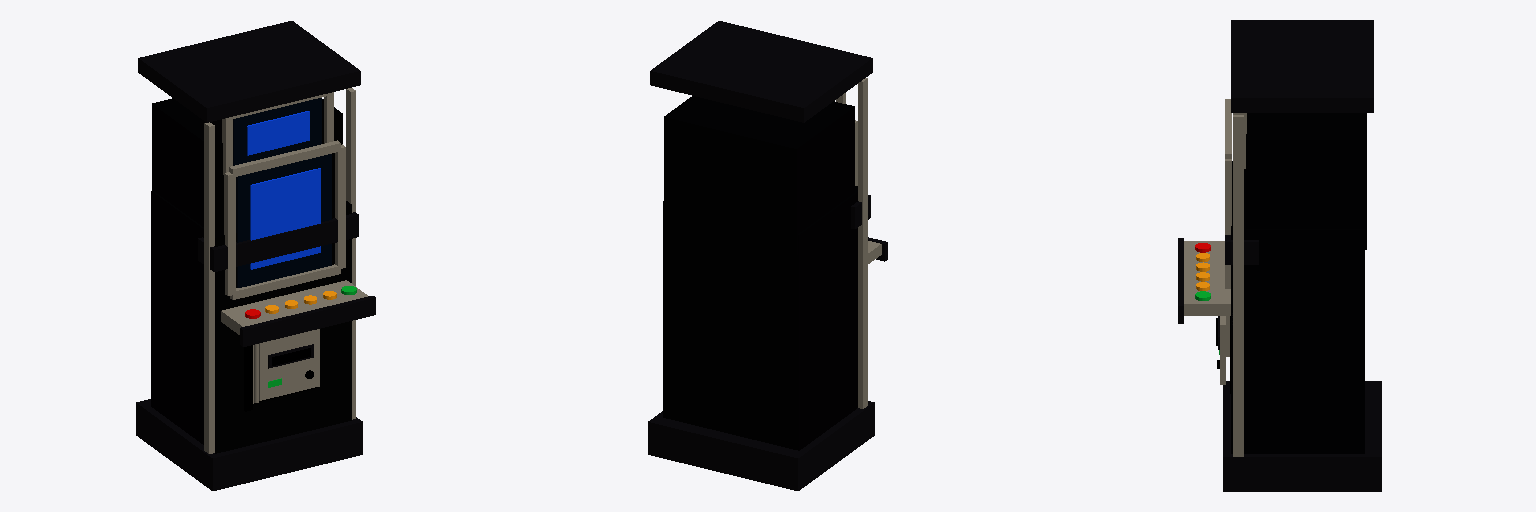
The robot description file, URDF, robot "dual_screen_slot_cabinet":
<robot name="dual_screen_slot_cabinet">
  <material name="satin_black">
    <color rgba="0.015 0.014 0.018 1" />
    </material>
  <material name="charcoal_side_panels">
    <color rgba="0.055 0.05 0.06 1" />
    </material>
  <material name="blue_black_display_glass">
    <color rgba="0.015 0.05 0.095 1" />
    </material>
  <material name="lit_blue_screen_art">
    <color rgba="0.05 0.3 0.95 1" />
    </material>
  <material name="brushed_metal">
    <color rgba="0.55 0.52 0.46 1" />
    </material>
  <material name="black_shadow_gap">
    <color rgba="0 0 0 1" />
    </material>
  <material name="red_translucent_button">
    <color rgba="0.9 0.03 0.02 1" />
    </material>
  <material name="amber_translucent_button">
    <color rgba="1 0.62 0.07 1" />
    </material>
  <material name="green_translucent_button">
    <color rgba="0.04 0.72 0.2 1" />
    </material>
  <link name="cabinet">
    <visual name="base_plinth">
      <origin xyz="0 0.02 0.09" rpy="0 0 0" />
      <geometry>
        <box size="0.86 0.76 0.18" />
        </geometry>
      <material name="charcoal_side_panels">
        <color rgba="0.055 0.05 0.06 1" />
        </material>
      </visual>
    <visual name="lower_body">
      <origin xyz="0 0 0.72" rpy="0 0 0" />
      <geometry>
        <box size="0.78 0.64 1.28" />
        </geometry>
      <material name="satin_black">
        <color rgba="0.015 0.014 0.018 1" />
        </material>
      </visual>
    <visual name="top_body">
      <origin xyz="0 0.04 1.54" rpy="0 0 0" />
      <geometry>
        <box size="0.76 0.58 0.58" />
        </geometry>
      <material name="satin_black">
        <color rgba="0.015 0.014 0.018 1" />
        </material>
      </visual>
    <visual name="waist_band">
      <origin xyz="0 -0.27 1.25" rpy="0 0 0" />
      <geometry>
        <box size="0.83 0.16 0.12" />
        </geometry>
      <material name="charcoal_side_panels">
        <color rgba="0.055 0.05 0.06 1" />
        </material>
      </visual>
    <visual name="crown_cap">
      <origin xyz="0 0.02 2.04" rpy="0 0 0" />
      <geometry>
        <box size="0.88 0.68 0.08" />
        </geometry>
      <material name="charcoal_side_panels">
        <color rgba="0.055 0.05 0.06 1" />
        </material>
      </visual>
    <visual name="front_upright_0">
      <origin xyz="-0.405 -0.285 1.04" rpy="0 0 0" />
      <geometry>
        <box size="0.03 0.05 1.86" />
        </geometry>
      <material name="brushed_metal">
        <color rgba="0.55 0.52 0.46 1" />
        </material>
      </visual>
    <visual name="front_upright_1">
      <origin xyz="0.405 -0.285 1.04" rpy="0 0 0" />
      <geometry>
        <box size="0.03 0.05 1.86" />
        </geometry>
      <material name="brushed_metal">
        <color rgba="0.55 0.52 0.46 1" />
        </material>
      </visual>
    <visual name="lower_display_glass">
      <origin xyz="0 -0.325 1.37" rpy="0 0 0" />
      <geometry>
        <box size="0.54 0.014 0.62" />
        </geometry>
      <material name="blue_black_display_glass">
        <color rgba="0.015 0.05 0.095 1" />
        </material>
      </visual>
    <visual name="lower_display_art">
      <origin xyz="0 -0.334 1.38" rpy="0 0 0" />
      <geometry>
        <box size="0.4 0.016 0.46" />
        </geometry>
      <material name="lit_blue_screen_art">
        <color rgba="0.05 0.3 0.95 1" />
        </material>
      </visual>
    <visual name="lower_bezel_top">
      <origin xyz="0 -0.333 1.705" rpy="0 0 0" />
      <geometry>
        <box size="0.62 0.035 0.045" />
        </geometry>
      <material name="brushed_metal">
        <color rgba="0.55 0.52 0.46 1" />
        </material>
      </visual>
    <visual name="lower_bezel_bottom">
      <origin xyz="0 -0.333 1.035" rpy="0 0 0" />
      <geometry>
        <box size="0.62 0.035 0.045" />
        </geometry>
      <material name="brushed_metal">
        <color rgba="0.55 0.52 0.46 1" />
        </material>
      </visual>
    <visual name="lower_bezel_side_0">
      <origin xyz="-0.315 -0.333 1.37" rpy="0 0 0" />
      <geometry>
        <box size="0.045 0.035 0.66" />
        </geometry>
      <material name="brushed_metal">
        <color rgba="0.55 0.52 0.46 1" />
        </material>
      </visual>
    <visual name="lower_bezel_side_1">
      <origin xyz="0.315 -0.333 1.37" rpy="0 0 0" />
      <geometry>
        <box size="0.045 0.035 0.66" />
        </geometry>
      <material name="brushed_metal">
        <color rgba="0.55 0.52 0.46 1" />
        </material>
      </visual>
    <visual name="top_display_glass">
      <origin xyz="0 -0.255 1.82" rpy="0 0 0" />
      <geometry>
        <box size="0.5 0.014 0.28" />
        </geometry>
      <material name="blue_black_display_glass">
        <color rgba="0.015 0.05 0.095 1" />
        </material>
      </visual>
    <visual name="top_display_art">
      <origin xyz="0 -0.264 1.82" rpy="0 0 0" />
      <geometry>
        <box size="0.36 0.016 0.16" />
        </geometry>
      <material name="lit_blue_screen_art">
        <color rgba="0.05 0.3 0.95 1" />
        </material>
      </visual>
    <visual name="top_bezel_top">
      <origin xyz="0 -0.264 1.985" rpy="0 0 0" />
      <geometry>
        <box size="0.58 0.034 0.04" />
        </geometry>
      <material name="brushed_metal">
        <color rgba="0.55 0.52 0.46 1" />
        </material>
      </visual>
    <visual name="top_bezel_bottom">
      <origin xyz="0 -0.264 1.655" rpy="0 0 0" />
      <geometry>
        <box size="0.58 0.034 0.04" />
        </geometry>
      <material name="brushed_metal">
        <color rgba="0.55 0.52 0.46 1" />
        </material>
      </visual>
    <visual name="top_bezel_side_0">
      <origin xyz="-0.29 -0.264 1.82" rpy="0 0 0" />
      <geometry>
        <box size="0.04 0.034 0.32" />
        </geometry>
      <material name="brushed_metal">
        <color rgba="0.55 0.52 0.46 1" />
        </material>
      </visual>
    <visual name="top_bezel_side_1">
      <origin xyz="0.29 -0.264 1.82" rpy="0 0 0" />
      <geometry>
        <box size="0.04 0.034 0.32" />
        </geometry>
      <material name="brushed_metal">
        <color rgba="0.55 0.52 0.46 1" />
        </material>
      </visual>
    <visual name="button_deck">
      <origin xyz="0 -0.425 0.925" rpy="0 0 0" />
      <geometry>
        <box size="0.72 0.26 0.06" />
        </geometry>
      <material name="brushed_metal">
        <color rgba="0.55 0.52 0.46 1" />
        </material>
      </visual>
    <visual name="deck_front_lip">
      <origin xyz="0 -0.56 0.91" rpy="0 0 0" />
      <geometry>
        <box size="0.76 0.03 0.095" />
        </geometry>
      <material name="charcoal_side_panels">
        <color rgba="0.055 0.05 0.06 1" />
        </material>
      </visual>
    <visual name="deck_rear_lip">
      <origin xyz="0 -0.3 0.91" rpy="0 0 0" />
      <geometry>
        <box size="0.78 0.035 0.095" />
        </geometry>
      <material name="charcoal_side_panels">
        <color rgba="0.055 0.05 0.06 1" />
        </material>
      </visual>
    <visual name="bill_door_recess">
      <origin xyz="0 -0.326 0.6" rpy="0 0 0" />
      <geometry>
        <box size="0.4 0.006 0.38" />
        </geometry>
      <material name="black_shadow_gap">
        <color rgba="0 0 0 1" />
        </material>
      </visual>
    <visual name="bill_hinge_leaf">
      <origin xyz="-0.198 -0.335 0.6" rpy="0 0 0" />
      <geometry>
        <box size="0.012 0.04 0.36" />
        </geometry>
      <material name="brushed_metal">
        <color rgba="0.55 0.52 0.46 1" />
        </material>
      </visual>
    <visual name="bill_door_shadow_gap">
      <origin xyz="-0.22 -0.352 0.6" rpy="0 0 0" />
      <geometry>
        <box size="0.045 0.01 0.42" />
        </geometry>
      <material name="black_shadow_gap">
        <color rgba="0 0 0 1" />
        </material>
      </visual>
    <collision name="base_plinth">
      <origin xyz="0 0.02 0.09" rpy="0 0 0" />
      <geometry>
        <box size="0.86 0.76 0.18" />
        </geometry>
      </collision>
    <collision name="lower_body">
      <origin xyz="0 0 0.72" rpy="0 0 0" />
      <geometry>
        <box size="0.78 0.64 1.28" />
        </geometry>
      </collision>
    <collision name="top_body">
      <origin xyz="0 0.04 1.54" rpy="0 0 0" />
      <geometry>
        <box size="0.76 0.58 0.58" />
        </geometry>
      </collision>
    <collision name="waist_band">
      <origin xyz="0 -0.27 1.25" rpy="0 0 0" />
      <geometry>
        <box size="0.83 0.16 0.12" />
        </geometry>
      </collision>
    <collision name="crown_cap">
      <origin xyz="0 0.02 2.04" rpy="0 0 0" />
      <geometry>
        <box size="0.88 0.68 0.08" />
        </geometry>
      </collision>
    <collision name="front_upright_0">
      <origin xyz="-0.405 -0.285 1.04" rpy="0 0 0" />
      <geometry>
        <box size="0.03 0.05 1.86" />
        </geometry>
      </collision>
    <collision name="front_upright_1">
      <origin xyz="0.405 -0.285 1.04" rpy="0 0 0" />
      <geometry>
        <box size="0.03 0.05 1.86" />
        </geometry>
      </collision>
    <collision name="lower_display_glass">
      <origin xyz="0 -0.325 1.37" rpy="0 0 0" />
      <geometry>
        <box size="0.54 0.014 0.62" />
        </geometry>
      </collision>
    <collision name="lower_display_art">
      <origin xyz="0 -0.334 1.38" rpy="0 0 0" />
      <geometry>
        <box size="0.4 0.016 0.46" />
        </geometry>
      </collision>
    <collision name="lower_bezel_top">
      <origin xyz="0 -0.333 1.705" rpy="0 0 0" />
      <geometry>
        <box size="0.62 0.035 0.045" />
        </geometry>
      </collision>
    <collision name="lower_bezel_bottom">
      <origin xyz="0 -0.333 1.035" rpy="0 0 0" />
      <geometry>
        <box size="0.62 0.035 0.045" />
        </geometry>
      </collision>
    <collision name="lower_bezel_side_0">
      <origin xyz="-0.315 -0.333 1.37" rpy="0 0 0" />
      <geometry>
        <box size="0.045 0.035 0.66" />
        </geometry>
      </collision>
    <collision name="lower_bezel_side_1">
      <origin xyz="0.315 -0.333 1.37" rpy="0 0 0" />
      <geometry>
        <box size="0.045 0.035 0.66" />
        </geometry>
      </collision>
    <collision name="top_display_glass">
      <origin xyz="0 -0.255 1.82" rpy="0 0 0" />
      <geometry>
        <box size="0.5 0.014 0.28" />
        </geometry>
      </collision>
    <collision name="top_display_art">
      <origin xyz="0 -0.264 1.82" rpy="0 0 0" />
      <geometry>
        <box size="0.36 0.016 0.16" />
        </geometry>
      </collision>
    <collision name="top_bezel_top">
      <origin xyz="0 -0.264 1.985" rpy="0 0 0" />
      <geometry>
        <box size="0.58 0.034 0.04" />
        </geometry>
      </collision>
    <collision name="top_bezel_bottom">
      <origin xyz="0 -0.264 1.655" rpy="0 0 0" />
      <geometry>
        <box size="0.58 0.034 0.04" />
        </geometry>
      </collision>
    <collision name="top_bezel_side_0">
      <origin xyz="-0.29 -0.264 1.82" rpy="0 0 0" />
      <geometry>
        <box size="0.04 0.034 0.32" />
        </geometry>
      </collision>
    <collision name="top_bezel_side_1">
      <origin xyz="0.29 -0.264 1.82" rpy="0 0 0" />
      <geometry>
        <box size="0.04 0.034 0.32" />
        </geometry>
      </collision>
    <collision name="button_deck">
      <origin xyz="0 -0.425 0.925" rpy="0 0 0" />
      <geometry>
        <box size="0.72 0.26 0.06" />
        </geometry>
      </collision>
    <collision name="deck_front_lip">
      <origin xyz="0 -0.56 0.91" rpy="0 0 0" />
      <geometry>
        <box size="0.76 0.03 0.095" />
        </geometry>
      </collision>
    <collision name="deck_rear_lip">
      <origin xyz="0 -0.3 0.91" rpy="0 0 0" />
      <geometry>
        <box size="0.78 0.035 0.095" />
        </geometry>
      </collision>
    <collision name="bill_door_recess">
      <origin xyz="0 -0.326 0.6" rpy="0 0 0" />
      <geometry>
        <box size="0.4 0.006 0.38" />
        </geometry>
      </collision>
    <collision name="bill_hinge_leaf">
      <origin xyz="-0.198 -0.335 0.6" rpy="0 0 0" />
      <geometry>
        <box size="0.012 0.04 0.36" />
        </geometry>
      </collision>
    <collision name="bill_door_shadow_gap">
      <origin xyz="-0.22 -0.352 0.6" rpy="0 0 0" />
      <geometry>
        <box size="0.045 0.01 0.42" />
        </geometry>
      </collision>
    </link>
  <link name="bill_door">
    <visual name="panel">
      <origin xyz="0.182 -0.016 0" rpy="0 0 0" />
      <geometry>
        <box size="0.34 0.03 0.32" />
        </geometry>
      <material name="brushed_metal">
        <color rgba="0.55 0.52 0.46 1" />
        </material>
      </visual>
    <visual name="hinge_barrel">
      <origin xyz="0 -0.016 0" rpy="0 0 0" />
      <geometry>
        <cylinder radius="0.014" length="0.34" />
        </geometry>
      <material name="brushed_metal">
        <color rgba="0.55 0.52 0.46 1" />
        </material>
      </visual>
    <visual name="bill_slot">
      <origin xyz="0.185 -0.043 0.045" rpy="0 0 0" />
      <geometry>
        <box size="0.22 0.01 0.045" />
        </geometry>
      <material name="black_shadow_gap">
        <color rgba="0 0 0 1" />
        </material>
      </visual>
    <visual name="slot_bezel">
      <origin xyz="0.185 -0.034 0.045" rpy="0 0 0" />
      <geometry>
        <box size="0.26 0.012 0.07" />
        </geometry>
      <material name="charcoal_side_panels">
        <color rgba="0.055 0.05 0.06 1" />
        </material>
      </visual>
    <visual name="round_lock">
      <origin xyz="0.292 -0.037 -0.08" rpy="1.5708 0 0" />
      <geometry>
        <cylinder radius="0.022" length="0.012" />
        </geometry>
      <material name="black_shadow_gap">
        <color rgba="0 0 0 1" />
        </material>
      </visual>
    <visual name="status_lens">
      <origin xyz="0.098 -0.027 -0.083" rpy="0 0 0" />
      <geometry>
        <box size="0.08 0.01 0.035" />
        </geometry>
      <material name="green_translucent_button">
        <color rgba="0.04 0.72 0.2 1" />
        </material>
      </visual>
    <collision name="panel">
      <origin xyz="0.182 -0.016 0" rpy="0 0 0" />
      <geometry>
        <box size="0.34 0.03 0.32" />
        </geometry>
      </collision>
    <collision name="hinge_barrel">
      <origin xyz="0 -0.016 0" rpy="0 0 0" />
      <geometry>
        <cylinder radius="0.014" length="0.34" />
        </geometry>
      </collision>
    <collision name="bill_slot">
      <origin xyz="0.185 -0.043 0.045" rpy="0 0 0" />
      <geometry>
        <box size="0.22 0.01 0.045" />
        </geometry>
      </collision>
    <collision name="slot_bezel">
      <origin xyz="0.185 -0.034 0.045" rpy="0 0 0" />
      <geometry>
        <box size="0.26 0.012 0.07" />
        </geometry>
      </collision>
    <collision name="round_lock">
      <origin xyz="0.292 -0.037 -0.08" rpy="1.5708 0 0" />
      <geometry>
        <cylinder radius="0.022" length="0.012" />
        </geometry>
      </collision>
    <collision name="status_lens">
      <origin xyz="0.098 -0.027 -0.083" rpy="0 0 0" />
      <geometry>
        <box size="0.08 0.01 0.035" />
        </geometry>
      </collision>
    </link>
  <link name="button_0">
    <visual name="cap">
      <origin xyz="0 0 0.012" rpy="0 0 0" />
      <geometry>
        <cylinder radius="0.038" length="0.018" />
        </geometry>
      <material name="red_translucent_button">
        <color rgba="0.9 0.03 0.02 1" />
        </material>
      </visual>
    <visual name="stem_shadow">
      <origin xyz="0 0 0.005" rpy="0 0 0" />
      <geometry>
        <cylinder radius="0.02356" length="0.01" />
        </geometry>
      <material name="charcoal_side_panels">
        <color rgba="0.055 0.05 0.06 1" />
        </material>
      </visual>
    <collision name="cap">
      <origin xyz="0 0 0.012" rpy="0 0 0" />
      <geometry>
        <cylinder radius="0.038" length="0.018" />
        </geometry>
      </collision>
    <collision name="stem_shadow">
      <origin xyz="0 0 0.005" rpy="0 0 0" />
      <geometry>
        <cylinder radius="0.02356" length="0.01" />
        </geometry>
      </collision>
    </link>
  <link name="button_1">
    <visual name="cap">
      <origin xyz="0 0 0.012" rpy="0 0 0" />
      <geometry>
        <cylinder radius="0.034" length="0.018" />
        </geometry>
      <material name="amber_translucent_button">
        <color rgba="1 0.62 0.07 1" />
        </material>
      </visual>
    <visual name="stem_shadow">
      <origin xyz="0 0 0.005" rpy="0 0 0" />
      <geometry>
        <cylinder radius="0.02108" length="0.01" />
        </geometry>
      <material name="charcoal_side_panels">
        <color rgba="0.055 0.05 0.06 1" />
        </material>
      </visual>
    <collision name="cap">
      <origin xyz="0 0 0.012" rpy="0 0 0" />
      <geometry>
        <cylinder radius="0.034" length="0.018" />
        </geometry>
      </collision>
    <collision name="stem_shadow">
      <origin xyz="0 0 0.005" rpy="0 0 0" />
      <geometry>
        <cylinder radius="0.02108" length="0.01" />
        </geometry>
      </collision>
    </link>
  <link name="button_2">
    <visual name="cap">
      <origin xyz="0 0 0.012" rpy="0 0 0" />
      <geometry>
        <cylinder radius="0.034" length="0.018" />
        </geometry>
      <material name="amber_translucent_button">
        <color rgba="1 0.62 0.07 1" />
        </material>
      </visual>
    <visual name="stem_shadow">
      <origin xyz="0 0 0.005" rpy="0 0 0" />
      <geometry>
        <cylinder radius="0.02108" length="0.01" />
        </geometry>
      <material name="charcoal_side_panels">
        <color rgba="0.055 0.05 0.06 1" />
        </material>
      </visual>
    <collision name="cap">
      <origin xyz="0 0 0.012" rpy="0 0 0" />
      <geometry>
        <cylinder radius="0.034" length="0.018" />
        </geometry>
      </collision>
    <collision name="stem_shadow">
      <origin xyz="0 0 0.005" rpy="0 0 0" />
      <geometry>
        <cylinder radius="0.02108" length="0.01" />
        </geometry>
      </collision>
    </link>
  <link name="button_3">
    <visual name="cap">
      <origin xyz="0 0 0.012" rpy="0 0 0" />
      <geometry>
        <cylinder radius="0.034" length="0.018" />
        </geometry>
      <material name="amber_translucent_button">
        <color rgba="1 0.62 0.07 1" />
        </material>
      </visual>
    <visual name="stem_shadow">
      <origin xyz="0 0 0.005" rpy="0 0 0" />
      <geometry>
        <cylinder radius="0.02108" length="0.01" />
        </geometry>
      <material name="charcoal_side_panels">
        <color rgba="0.055 0.05 0.06 1" />
        </material>
      </visual>
    <collision name="cap">
      <origin xyz="0 0 0.012" rpy="0 0 0" />
      <geometry>
        <cylinder radius="0.034" length="0.018" />
        </geometry>
      </collision>
    <collision name="stem_shadow">
      <origin xyz="0 0 0.005" rpy="0 0 0" />
      <geometry>
        <cylinder radius="0.02108" length="0.01" />
        </geometry>
      </collision>
    </link>
  <link name="button_4">
    <visual name="cap">
      <origin xyz="0 0 0.012" rpy="0 0 0" />
      <geometry>
        <cylinder radius="0.034" length="0.018" />
        </geometry>
      <material name="amber_translucent_button">
        <color rgba="1 0.62 0.07 1" />
        </material>
      </visual>
    <visual name="stem_shadow">
      <origin xyz="0 0 0.005" rpy="0 0 0" />
      <geometry>
        <cylinder radius="0.02108" length="0.01" />
        </geometry>
      <material name="charcoal_side_panels">
        <color rgba="0.055 0.05 0.06 1" />
        </material>
      </visual>
    <collision name="cap">
      <origin xyz="0 0 0.012" rpy="0 0 0" />
      <geometry>
        <cylinder radius="0.034" length="0.018" />
        </geometry>
      </collision>
    <collision name="stem_shadow">
      <origin xyz="0 0 0.005" rpy="0 0 0" />
      <geometry>
        <cylinder radius="0.02108" length="0.01" />
        </geometry>
      </collision>
    </link>
  <link name="button_5">
    <visual name="cap">
      <origin xyz="0 0 0.012" rpy="0 0 0" />
      <geometry>
        <cylinder radius="0.038" length="0.018" />
        </geometry>
      <material name="green_translucent_button">
        <color rgba="0.04 0.72 0.2 1" />
        </material>
      </visual>
    <visual name="stem_shadow">
      <origin xyz="0 0 0.005" rpy="0 0 0" />
      <geometry>
        <cylinder radius="0.02356" length="0.01" />
        </geometry>
      <material name="charcoal_side_panels">
        <color rgba="0.055 0.05 0.06 1" />
        </material>
      </visual>
    <collision name="cap">
      <origin xyz="0 0 0.012" rpy="0 0 0" />
      <geometry>
        <cylinder radius="0.038" length="0.018" />
        </geometry>
      </collision>
    <collision name="stem_shadow">
      <origin xyz="0 0 0.005" rpy="0 0 0" />
      <geometry>
        <cylinder radius="0.02356" length="0.01" />
        </geometry>
      </collision>
    </link>
  <joint name="cabinet_to_bill_door" type="revolute">
    <origin xyz="-0.18 -0.345 0.6" rpy="0 0 0" />
    <parent link="cabinet" />
    <child link="bill_door" />
    <axis xyz="0 0 -1" />
    <limit effort="12" velocity="1.5" lower="0" upper="1.3" />
    </joint>
  <joint name="cabinet_to_button_0" type="prismatic">
    <origin xyz="-0.255 -0.455 0.955" rpy="0 0 0" />
    <parent link="cabinet" />
    <child link="button_0" />
    <axis xyz="0 0 -1" />
    <limit effort="8" velocity="0.08" lower="0" upper="0.008" />
    </joint>
  <joint name="cabinet_to_button_1" type="prismatic">
    <origin xyz="-0.145 -0.455 0.955" rpy="0 0 0" />
    <parent link="cabinet" />
    <child link="button_1" />
    <axis xyz="0 0 -1" />
    <limit effort="8" velocity="0.08" lower="0" upper="0.008" />
    </joint>
  <joint name="cabinet_to_button_2" type="prismatic">
    <origin xyz="-0.035 -0.455 0.955" rpy="0 0 0" />
    <parent link="cabinet" />
    <child link="button_2" />
    <axis xyz="0 0 -1" />
    <limit effort="8" velocity="0.08" lower="0" upper="0.008" />
    </joint>
  <joint name="cabinet_to_button_3" type="prismatic">
    <origin xyz="0.075 -0.455 0.955" rpy="0 0 0" />
    <parent link="cabinet" />
    <child link="button_3" />
    <axis xyz="0 0 -1" />
    <limit effort="8" velocity="0.08" lower="0" upper="0.008" />
    </joint>
  <joint name="cabinet_to_button_4" type="prismatic">
    <origin xyz="0.185 -0.455 0.955" rpy="0 0 0" />
    <parent link="cabinet" />
    <child link="button_4" />
    <axis xyz="0 0 -1" />
    <limit effort="8" velocity="0.08" lower="0" upper="0.008" />
    </joint>
  <joint name="cabinet_to_button_5" type="prismatic">
    <origin xyz="0.295 -0.455 0.955" rpy="0 0 0" />
    <parent link="cabinet" />
    <child link="button_5" />
    <axis xyz="0 0 -1" />
    <limit effort="8" velocity="0.08" lower="0" upper="0.008" />
    </joint>
  </robot>

--- Render facts (derived) ---
Views: 3 orthographic renders of the robot side by side, from view 1: azimuth 30°, elevation 25°; view 2: azimuth 150°, elevation 25°; view 3: azimuth 270°, elevation 25°.
Model dual_screen_slot_cabinet with 8 links and 7 joints (1 revolute, 6 prismatic), rooted at cabinet, posed all joints at 0.
Visible links, largest first — view 1: cabinet, bill_door; view 2: cabinet; view 3: cabinet, bill_door.
Link boxes in pixels (x1,y1,x2,y2): cabinet: (136, 21, 375, 490); bill_door: (254, 329, 319, 402); cabinet: (648, 21, 887, 490); cabinet: (1178, 20, 1381, 491); bill_door: (1216, 316, 1225, 384).
Bounding box of the posed robot: 0.88 × 0.975 × 2.08 m (x, y, z).
Geometry: primitives only (box / cylinder / sphere), no mesh files.
